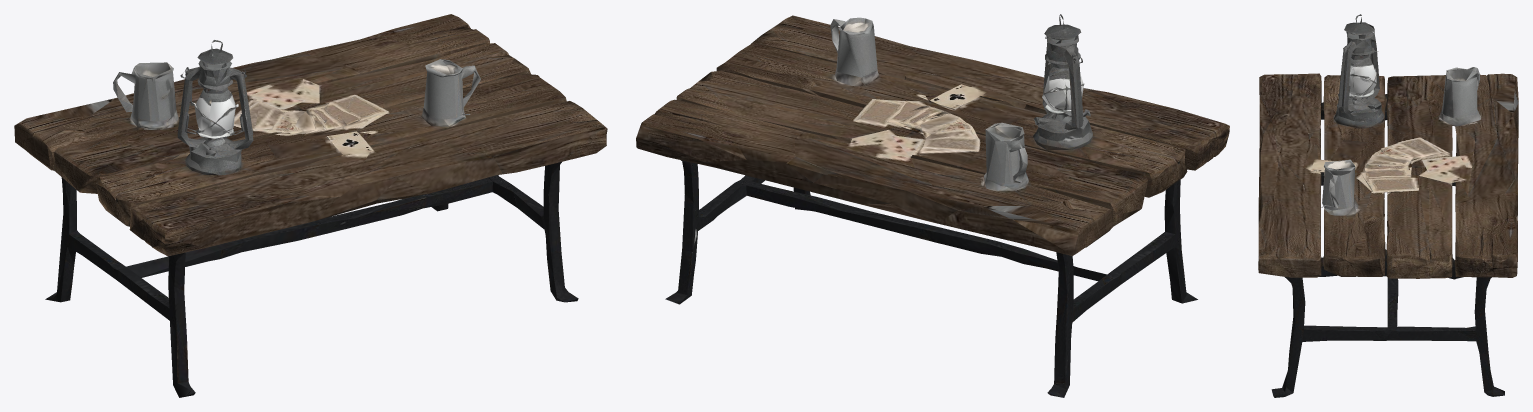
Rendered from sp_m_coffeetable.glb.
The picture shows the model from 3 angles, left to right: view 1: azimuth 30°, elevation 25°; view 2: azimuth 150°, elevation 25°; view 3: azimuth 270°, elevation 25°; orthographic projection. The views are drawn at different scales.
Visible parts, largest first — view 1: Mesh_0; view 2: Mesh_0; view 3: Mesh_0.
Boxes of the visible parts, x1,y1,x2,y2 form: Mesh_0: (14,14,607,397); Mesh_0: (636,14,1229,397); Mesh_0: (1258,14,1518,397).
Size of the model in its own units: 1.9 by 1.22 by 1.13.
Materials: 1 (1 with a texture image).
